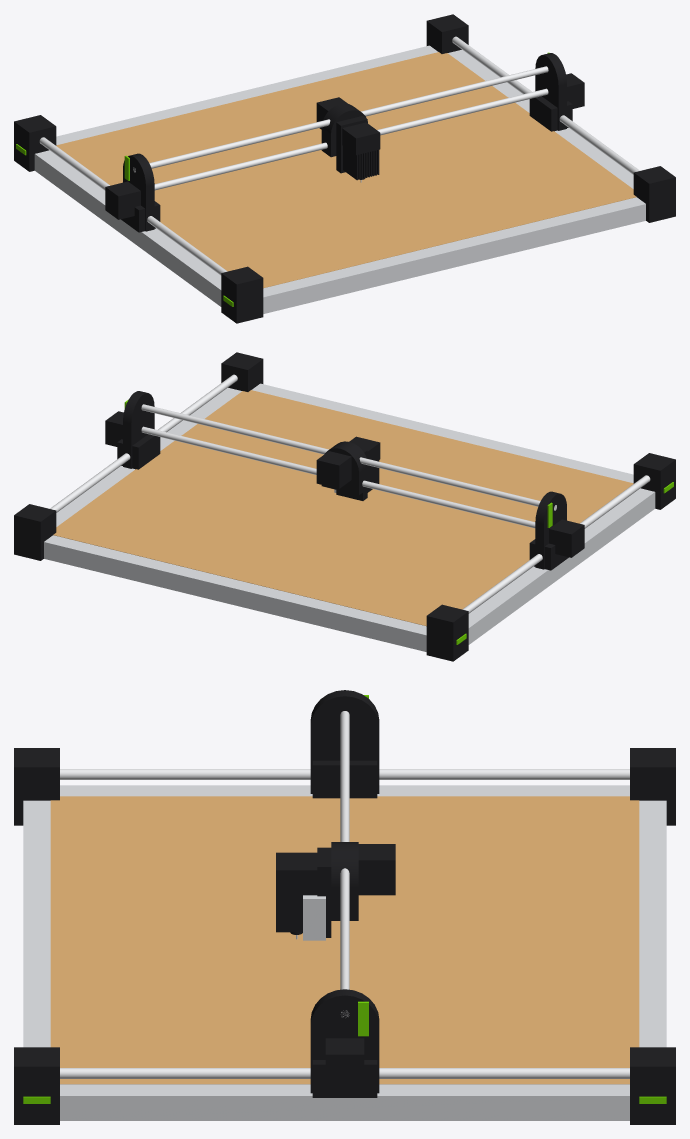
Rendered from machine.fbx.
3 renders of one model, top to bottom at view 1: azimuth 30°, elevation 25°; view 2: azimuth 150°, elevation 25°; view 3: azimuth 270°, elevation 25°, orthographic. The views are drawn at different scales.
Visible parts, largest first — view 1: CNC_Frame, CNC_Gantry_Y, CNC_Toolhead_X; view 2: CNC_Frame, CNC_Gantry_Y, CNC_Toolhead_X; view 3: CNC_Frame, CNC_Gantry_Y, CNC_Toolhead_X.
Boxes of the visible parts, box(x1,y1,x2,y2) form: CNC_Frame: box(14, 14, 675, 323); CNC_Gantry_Y: box(105, 52, 584, 232); CNC_Toolhead_X: box(316, 97, 380, 182); CNC_Frame: box(14, 352, 675, 661); CNC_Gantry_Y: box(105, 391, 584, 570); CNC_Toolhead_X: box(316, 436, 380, 500); CNC_Frame: box(14, 748, 675, 1124); CNC_Gantry_Y: box(310, 690, 379, 1097); CNC_Toolhead_X: box(276, 842, 395, 940).
Size of what is drawn, in the model's own units: 87 by 14.75 by 72.
